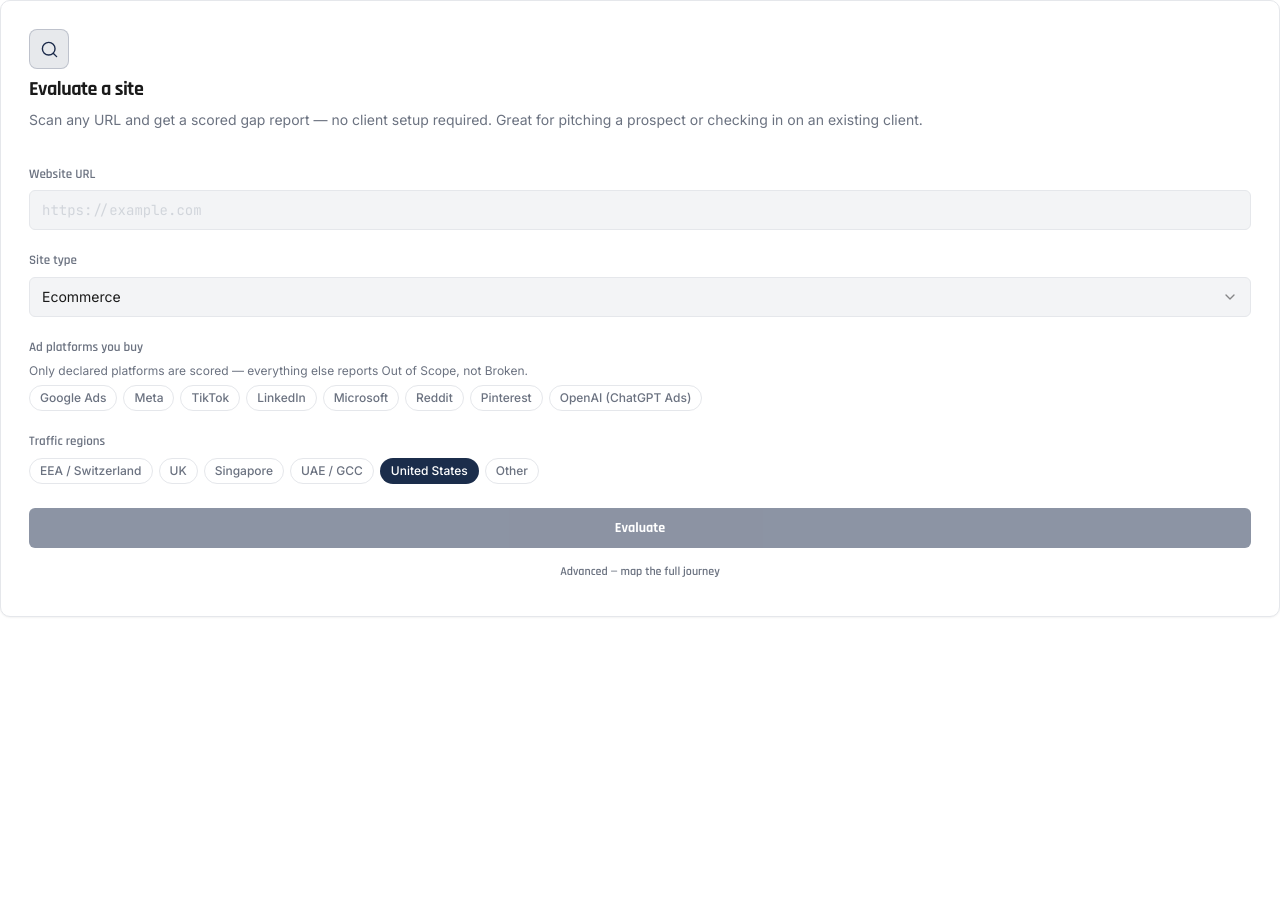
Test case: EvaluateSiteCard › shows a primary channel selector only once a platform is declared
The width and height of the screenshot is (1280, 900).
Expected: the text "Primary channel" is not shown
Click the button "Meta". click: (149, 398)
box: [124,385,174,411]
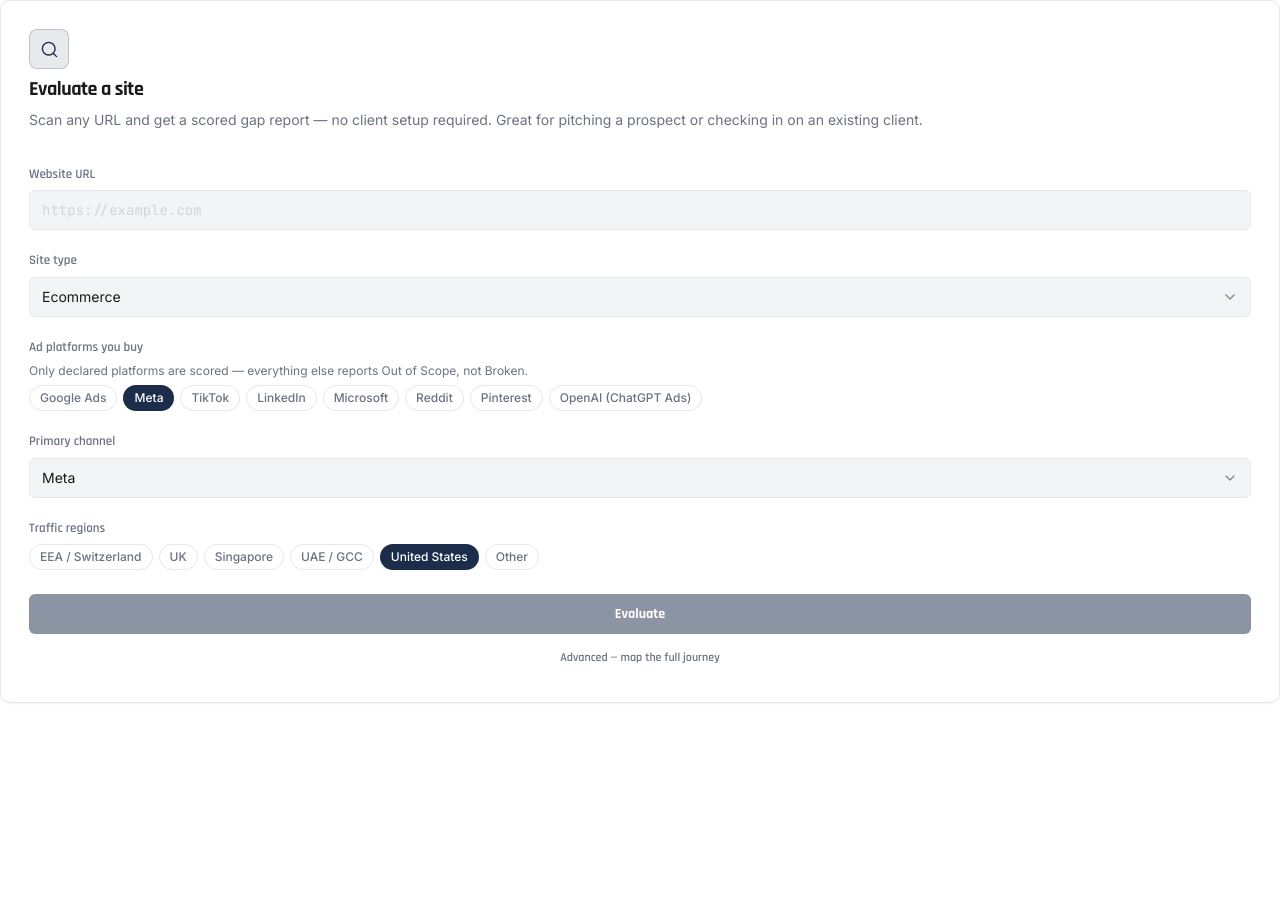
Expected: the text "Primary channel" is shown, [29,433,115,449]
